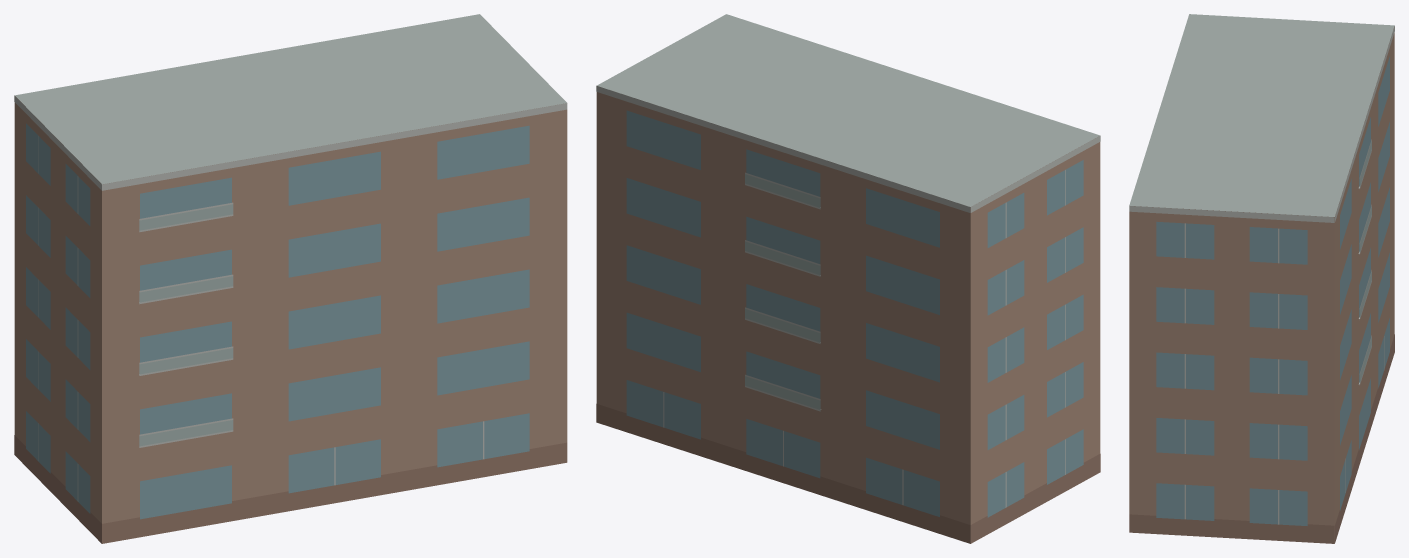
The model's file is survey-upis-33046817.glb.
3 renders of one model, left to right at view 1: azimuth 30°, elevation 25°; view 2: azimuth 150°, elevation 25°; view 3: azimuth 270°, elevation 25°, orthographic. The views are drawn at different scales.
Visible parts, largest first — view 1: survey-upis-33046817.tmp; view 2: survey-upis-33046817.tmp; view 3: survey-upis-33046817.tmp.
Boxes of the visible parts, <box> form: survey-upis-33046817.tmp: <box>14,14,567,543</box>; survey-upis-33046817.tmp: <box>596,14,1100,543</box>; survey-upis-33046817.tmp: <box>1129,14,1394,543</box>.
Bounding box in the file's own units: 18.01 × 13.5 × 9.96.
